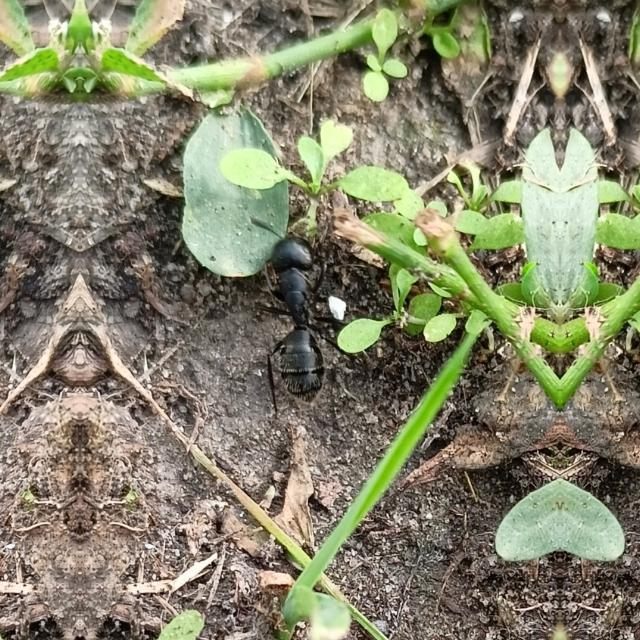Camponotus: (216, 197, 384, 427)
